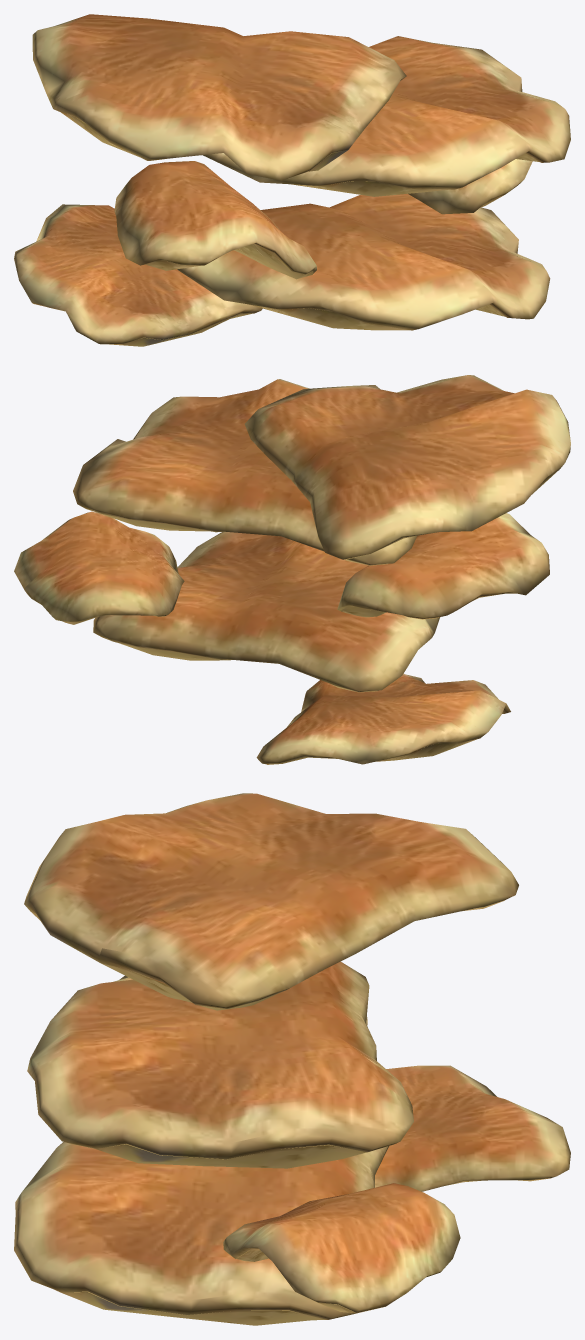
The model's file is jamur-ungu.glb.
The picture shows the model from 3 angles, top to bottom: view 1: azimuth 30°, elevation 25°; view 2: azimuth 150°, elevation 25°; view 3: azimuth 270°, elevation 25°; orthographic projection. The views are drawn at different scales.
Parts seen in each view (by area): view 1: Mushroom_Laetiporus; view 2: Mushroom_Laetiporus; view 3: Mushroom_Laetiporus.
Boxes of the visible parts, box(x1,y1,x2,y2) form: Mushroom_Laetiporus: box(14, 14, 570, 346); Mushroom_Laetiporus: box(14, 375, 570, 764); Mushroom_Laetiporus: box(14, 793, 570, 1325).
Bounding box in the file's own units: 5.01 × 2.81 × 4.04.
Materials: 1 (1 with a texture image).
